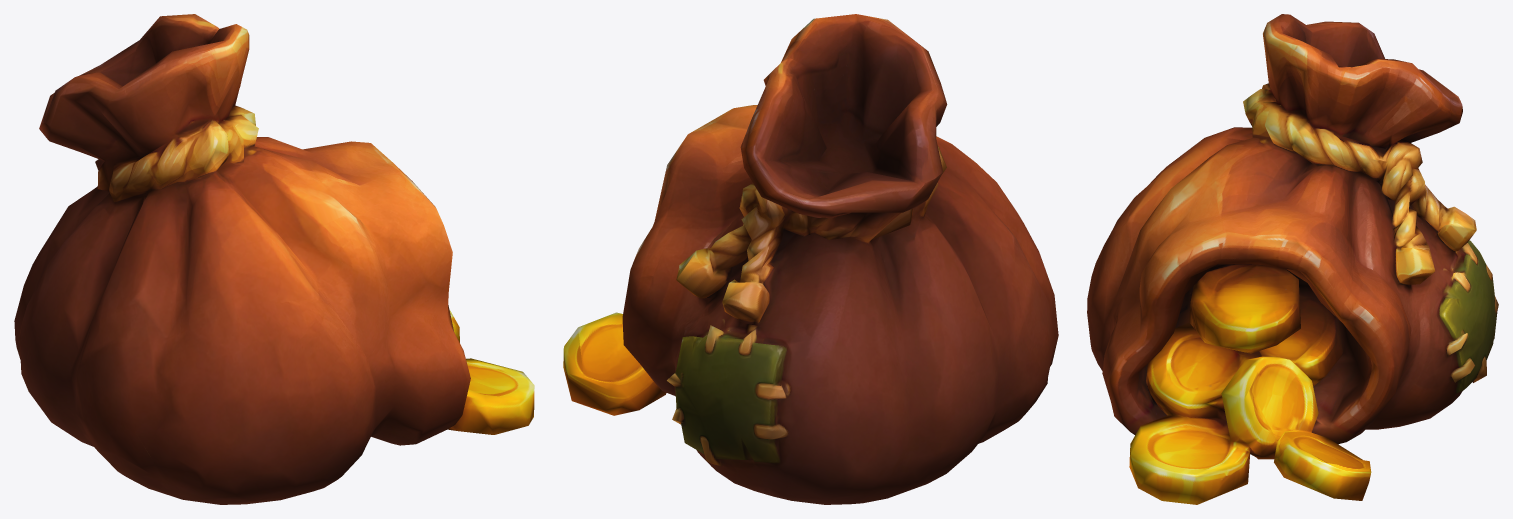
The model's file is Kit_W_LootSack_raw.glb.
3 views of the same model, side by side, from view 1: azimuth 30°, elevation 25°; view 2: azimuth 150°, elevation 25°; view 3: azimuth 270°, elevation 25° (orthographic). The views are drawn at different scales.
Parts seen in each view (by area): view 1: tripo_node_7ef6f36f-b446-4c99-80b6-22cef90d6cc0; view 2: tripo_node_7ef6f36f-b446-4c99-80b6-22cef90d6cc0; view 3: tripo_node_7ef6f36f-b446-4c99-80b6-22cef90d6cc0.
Part boxes in pixels (bbox=[...]): tripo_node_7ef6f36f-b446-4c99-80b6-22cef90d6cc0: bbox=[14, 14, 534, 504]; tripo_node_7ef6f36f-b446-4c99-80b6-22cef90d6cc0: bbox=[563, 14, 1058, 504]; tripo_node_7ef6f36f-b446-4c99-80b6-22cef90d6cc0: bbox=[1087, 14, 1498, 504].
Bounding box in the file's own units: 1 × 0.9389 × 0.9444.
1 material, 1 textured.
